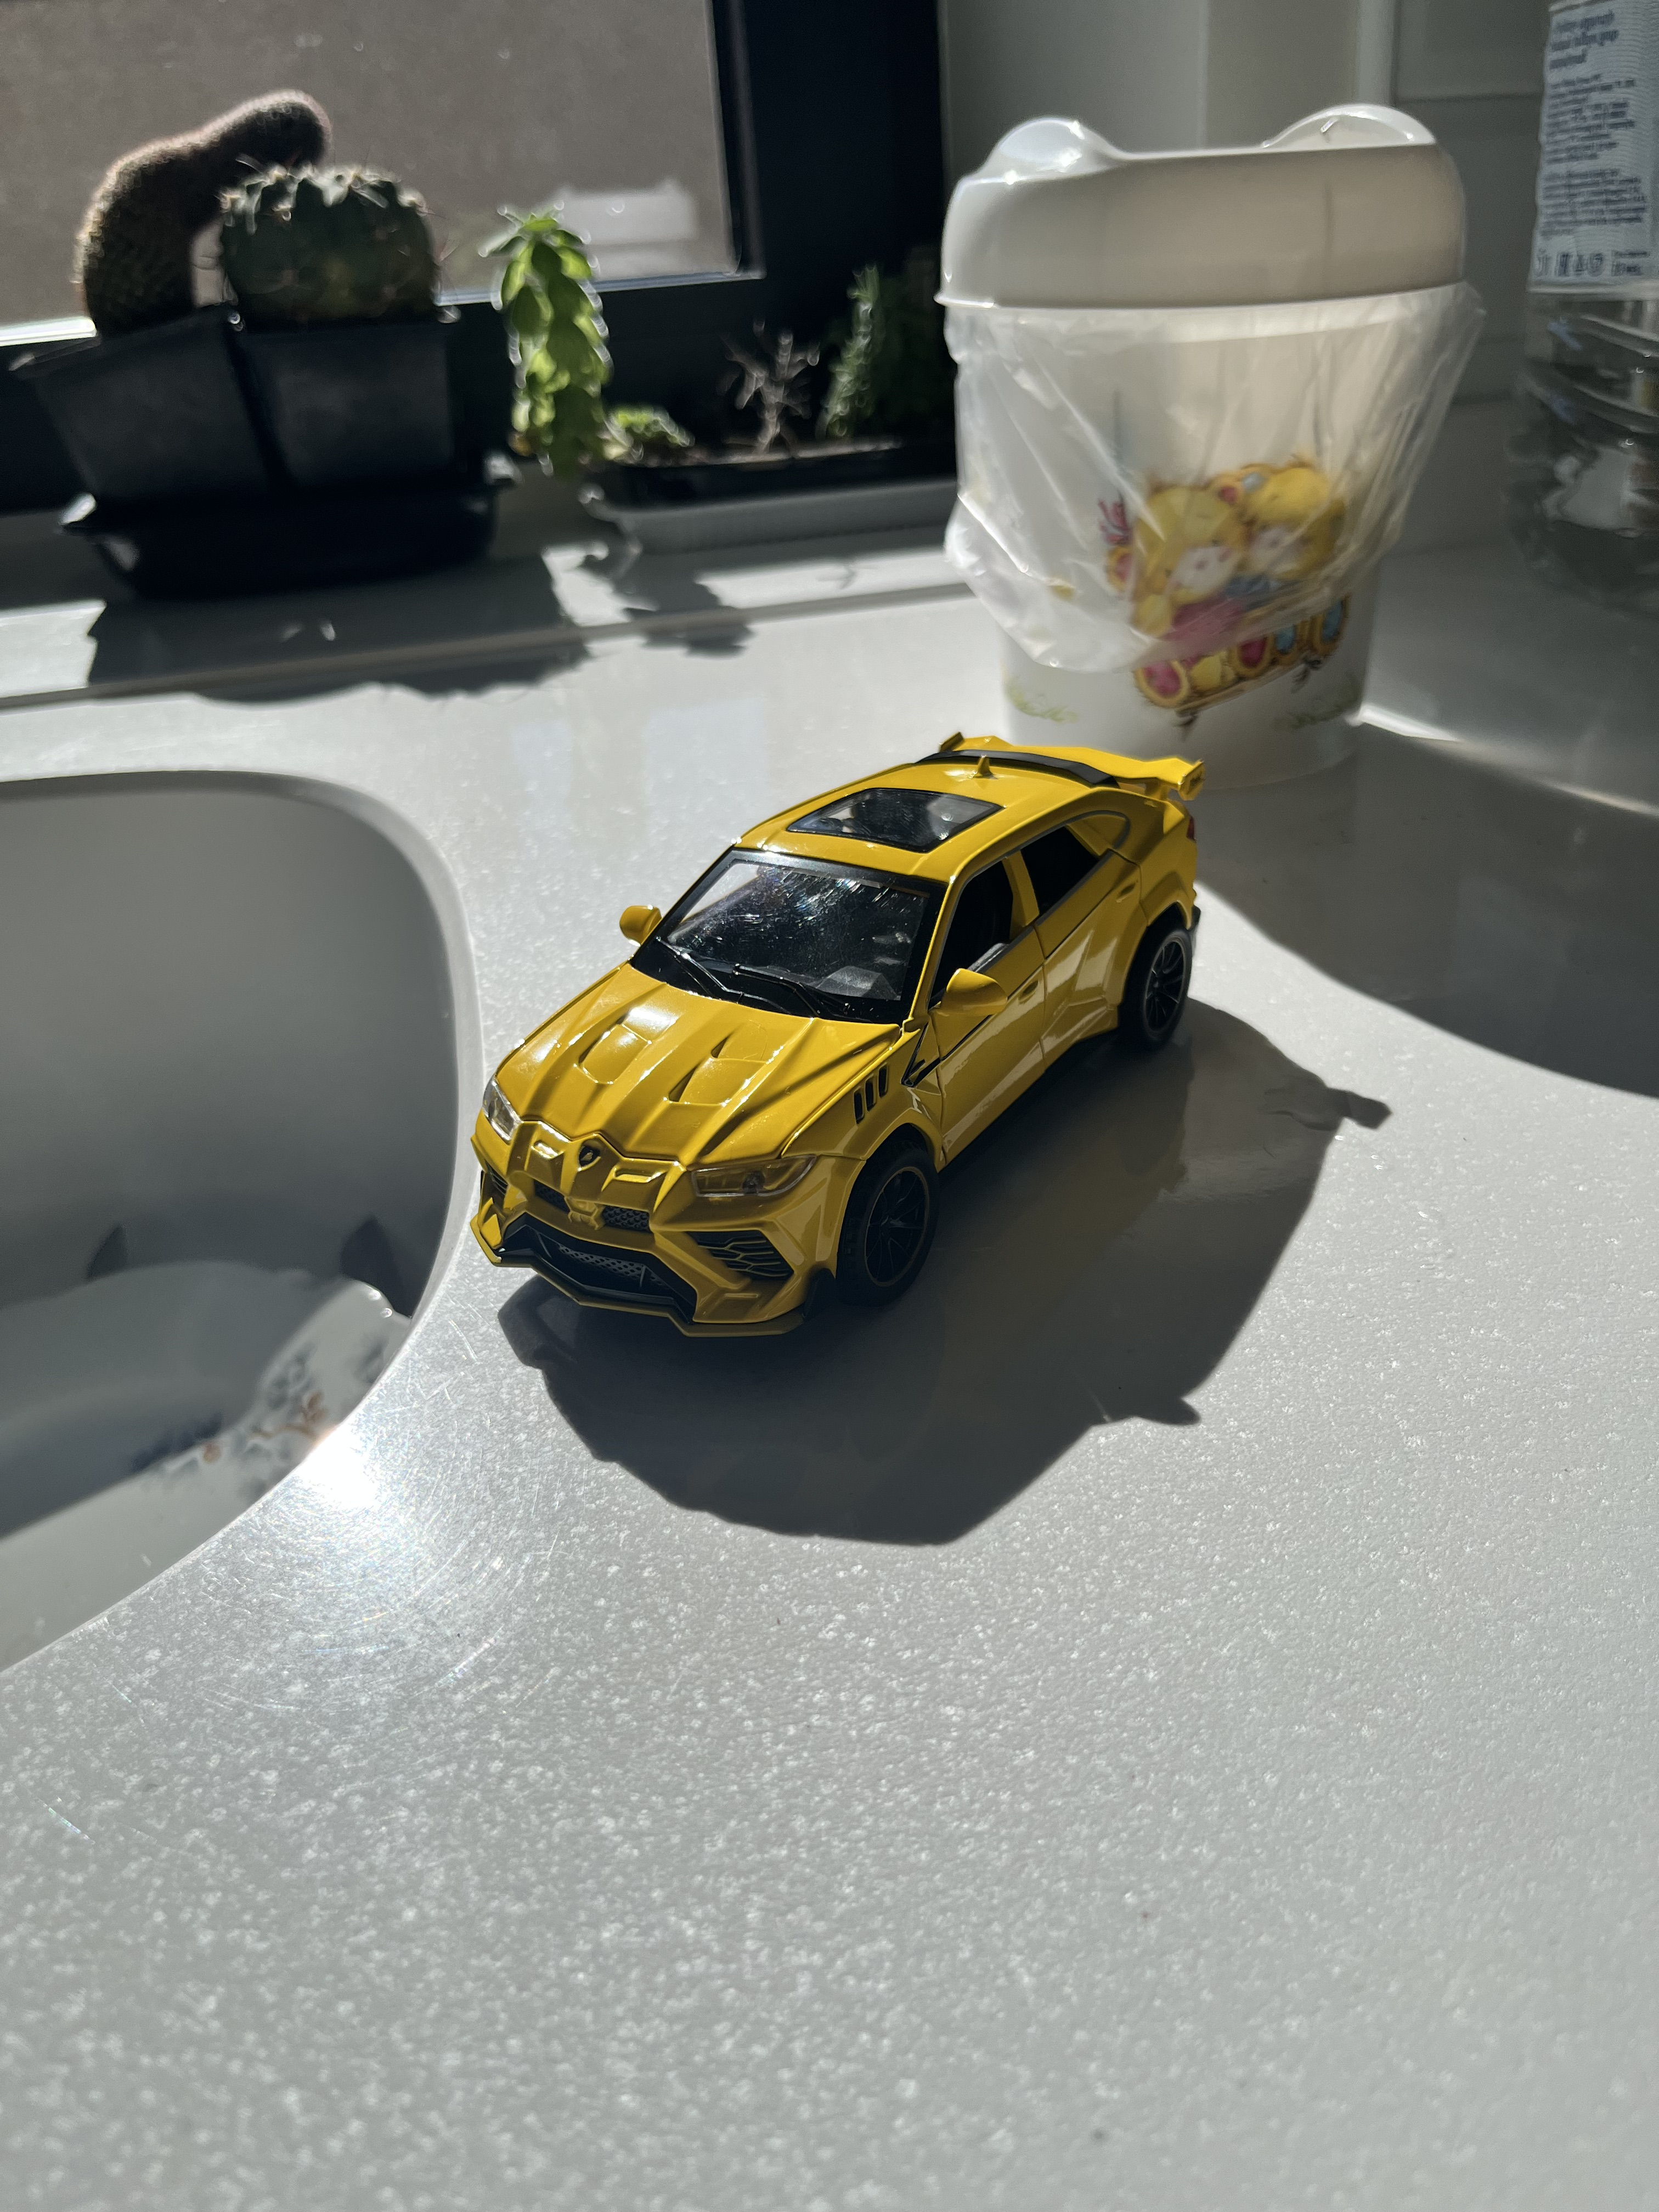lambo: (469, 732, 1202, 1336)
